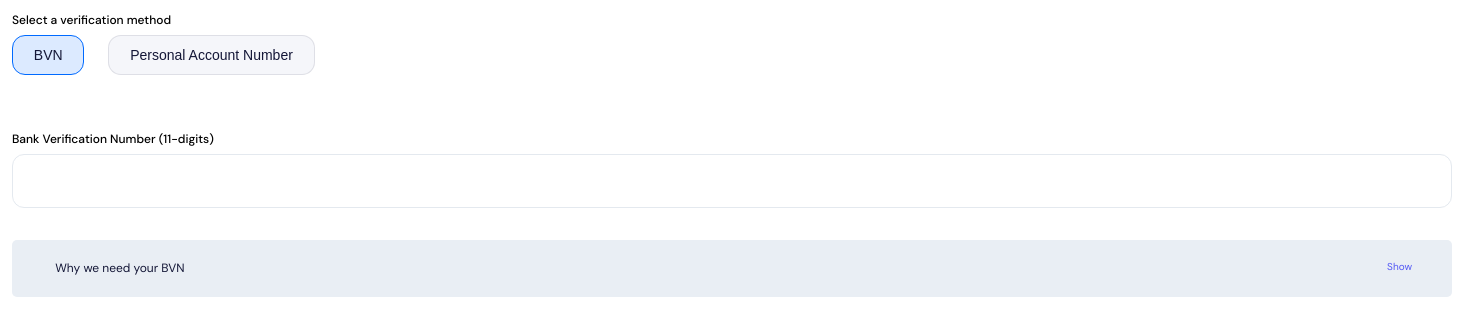
Scenario: <StepOne /> › radio input diplays person account number fields when person account number option is selected
Step 1. Click the button with class "radio-option" showing "Personal Account Number" → coordinates (212, 55), box [108, 35, 315, 75]
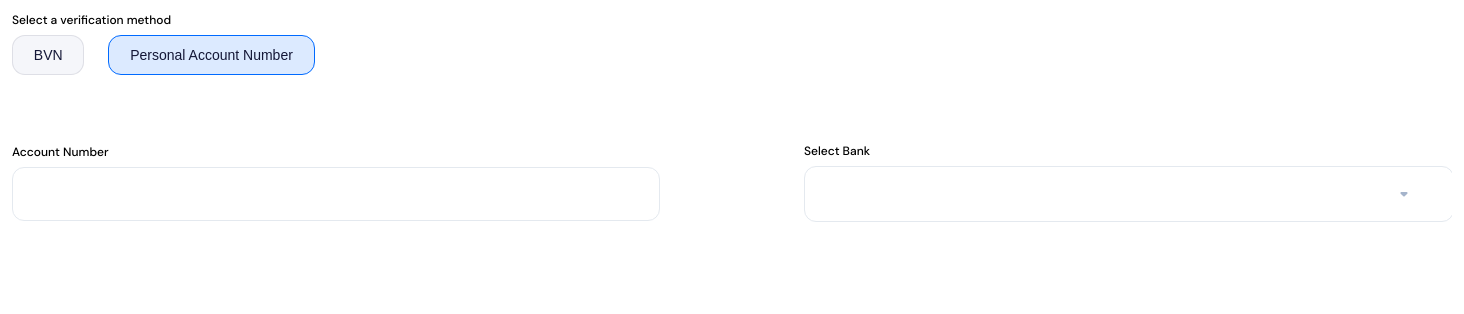
Expected: the text with class "sub-heading" reads "Select Bank", [804, 143, 870, 159]
